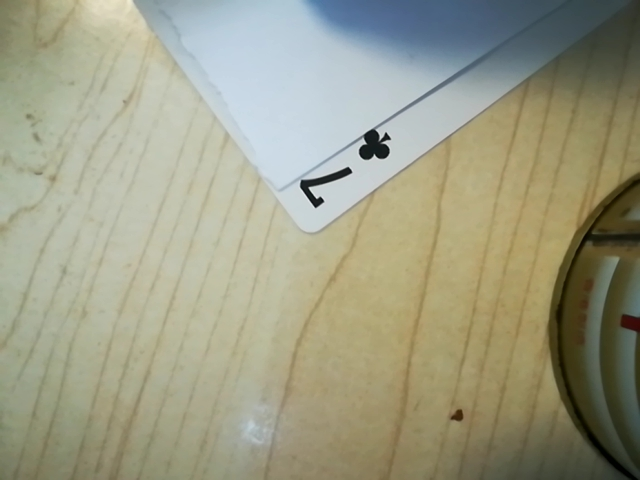mh 7: (289, 115, 413, 219)
